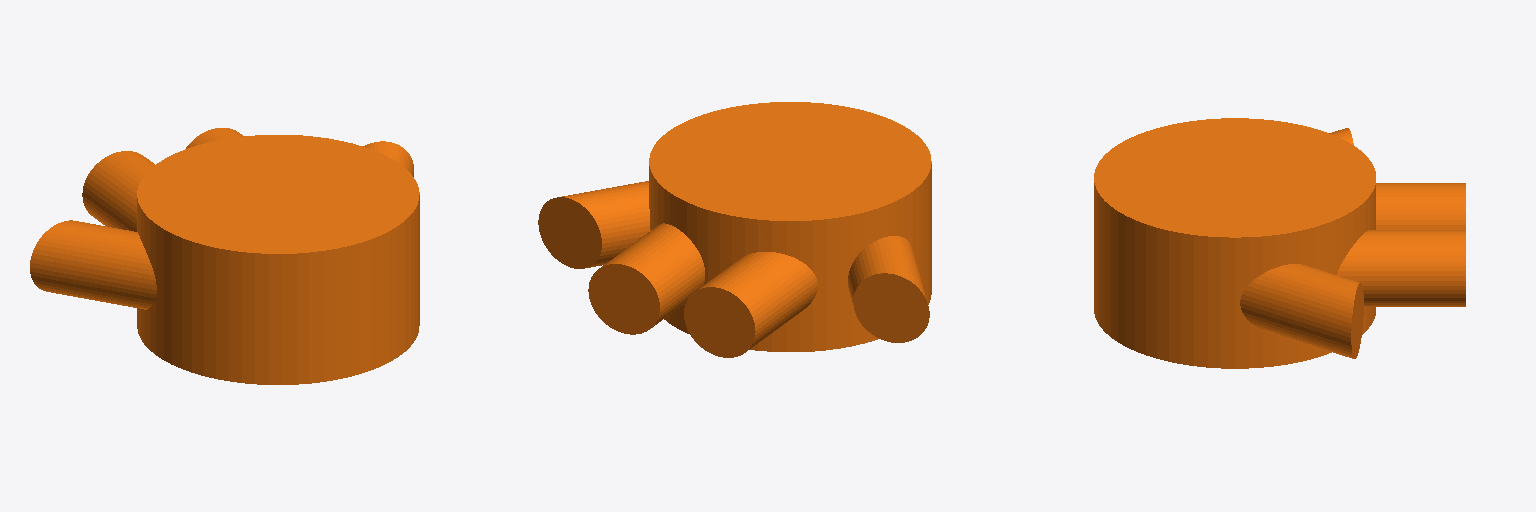
Rendered from tinker.obj.
The picture shows the model from 3 angles: view 1: azimuth 30°, elevation 25°; view 2: azimuth 150°, elevation 25°; view 3: azimuth 270°, elevation 25°; orthographic projection.
Visible parts, largest first — view 1: obj_0; view 2: obj_0; view 3: obj_0.
Boxes of the visible parts, box(x1,y1,x2,y2) form: obj_0: box(30, 128, 419, 384); obj_0: box(538, 102, 931, 357); obj_0: box(1094, 118, 1465, 368).
Bounding box in the file's own units: 65 × 25 × 54.